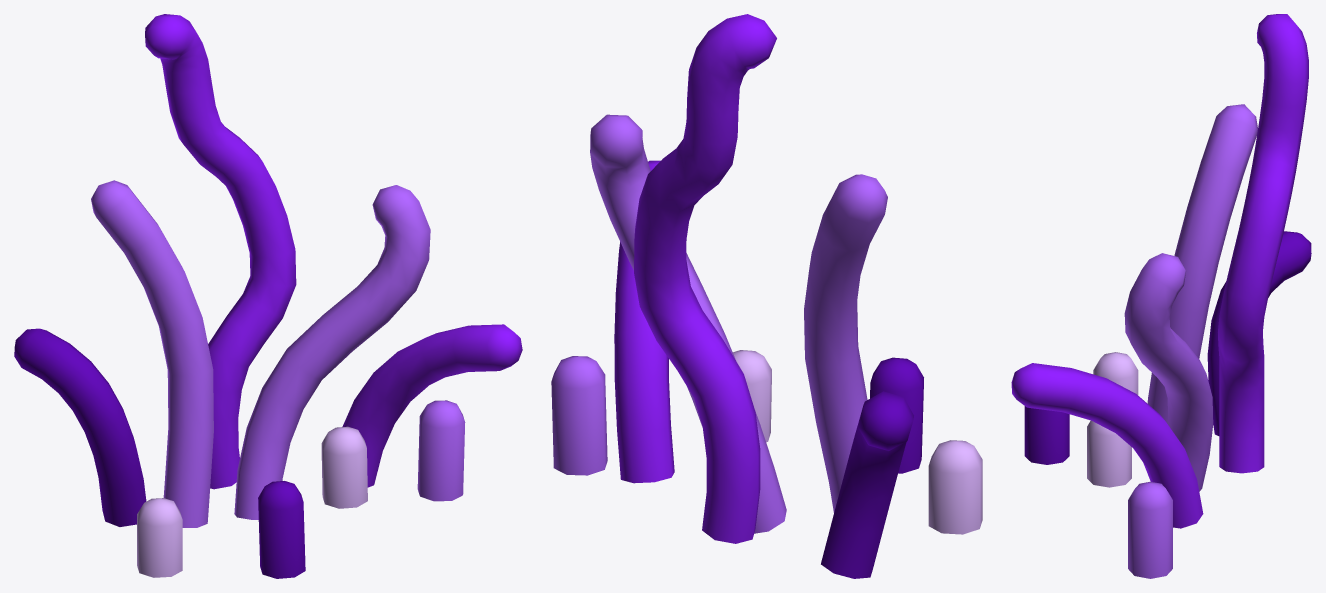
Rendered from HerbWormy.fbx.
3 renders of one model, left to right at view 1: azimuth 30°, elevation 25°; view 2: azimuth 150°, elevation 25°; view 3: azimuth 270°, elevation 25°, orthographic. The views are drawn at different scales.
Visible parts, largest first — view 1: HerbWormy_LOD0; view 2: HerbWormy_LOD0; view 3: HerbWormy_LOD0.
Part boxes in pixels (left/top/right/bottom): HerbWormy_LOD0: left=14, top=14, right=522, bottom=578; HerbWormy_LOD0: left=551, top=14, right=982, bottom=578; HerbWormy_LOD0: left=1011, top=14, right=1311, bottom=578.
Size of what is drawn, in the model's own units: 63.8 by 78.37 by 46.53.
